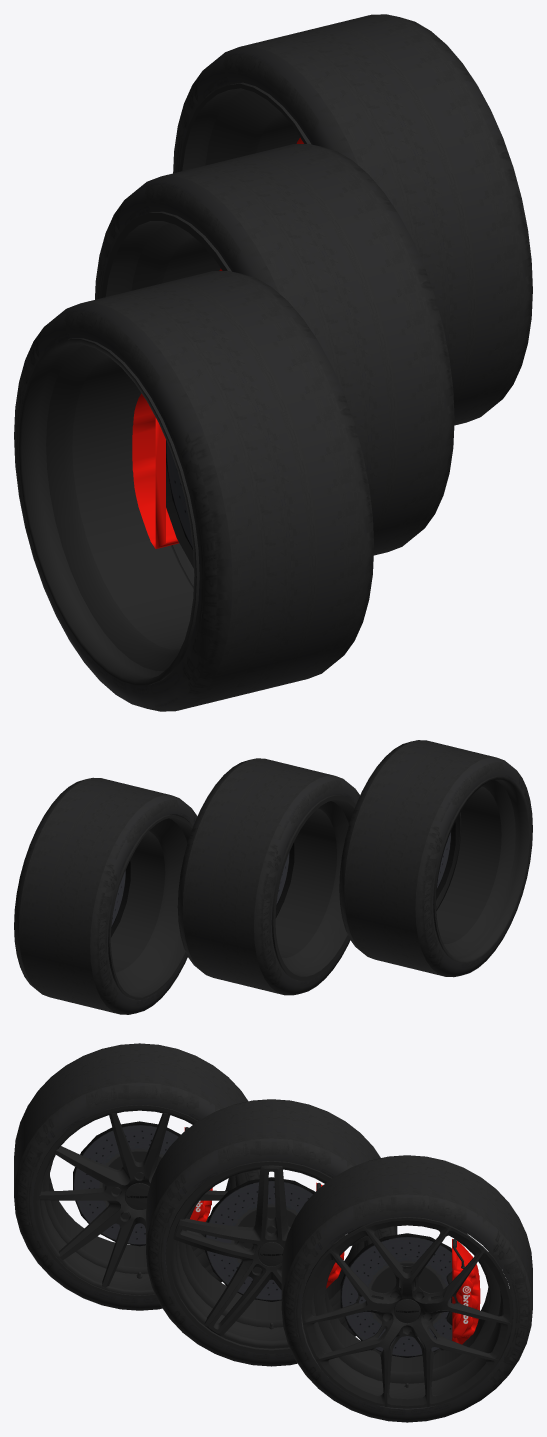
The model's file is VOSSEN.glb.
3 renders of one model, top to bottom at view 1: azimuth 30°, elevation 25°; view 2: azimuth 150°, elevation 25°; view 3: azimuth 270°, elevation 25°, orthographic. The views are drawn at different scales.
Parts seen in each view (by area): view 1: Окружность.001, Окружность.003, Окружность.002, Окружность, Окружность.011, Плоскость.001, Плоскость.002; view 2: Окружность.001, Окружность.002, Окружность.003, Окружность, Окружность.011, Плоскость.001; view 3: Окружность.011, Окружность.002, Плоскость.001, Окружность, Окружность.003, Окружность.001, Плоскость.003.
Part boxes in pixels (x1=…): Окружность.001: x1=14, y1=270, x2=374, y2=711; Окружность.003: x1=95, y1=144, x2=454, y2=555; Окружность.002: x1=173, y1=14, x2=532, y2=425; Окружность: x1=19, y1=338, x2=199, y2=685; Окружность.011: x1=180, y1=82, x2=311, y2=171; Плоскость.001: x1=101, y1=211, x2=231, y2=298; Плоскость.002: x1=132, y1=393, x2=184, y2=548; Окружность.001: x1=339, y1=740, x2=532, y2=977; Окружность.002: x1=14, y1=777, x2=197, y2=1014; Окружность.003: x1=177, y1=758, x2=359, y2=995; Окружность: x1=433, y1=776, x2=530, y2=962; Окружность.011: x1=108, y1=814, x2=192, y2=999; Плоскость.001: x1=271, y1=795, x2=355, y2=980; Окружность.011: x1=301, y1=1217, x2=513, y2=1408; Окружность.002: x1=281, y1=1155, x2=532, y2=1422; Плоскость.001: x1=165, y1=1161, x2=374, y2=1353; Окружность: x1=33, y1=1105, x2=243, y2=1298; Окружность.003: x1=146, y1=1099, x2=397, y2=1366; Окружность.001: x1=14, y1=1043, x2=260, y2=1310; Плоскость.003: x1=446, y1=1239, x2=480, y2=1344.
Bounding box in the file's own units: 6 × 3.87 × 7.98.
12 materials, 6 textured.
